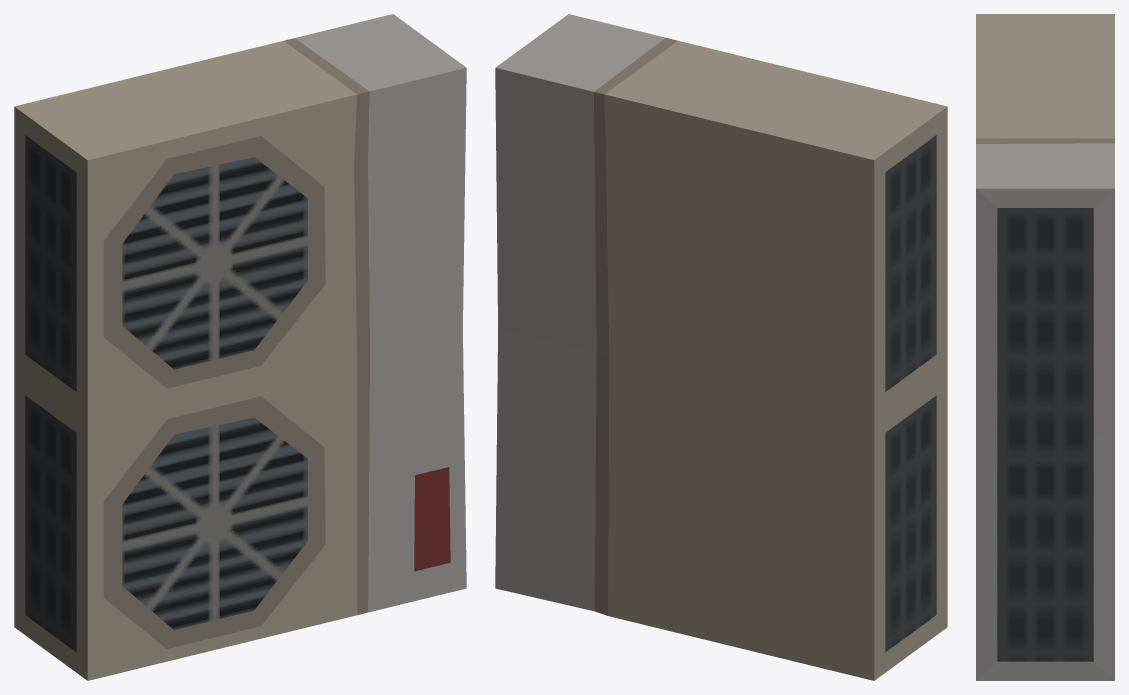
Rendered from SM_Prop_Airconditioner_Optimized_04.glb.
The picture shows the model from 3 angles, left to right: view 1: azimuth 30°, elevation 25°; view 2: azimuth 150°, elevation 25°; view 3: azimuth 270°, elevation 25°; orthographic projection. The views are drawn at different scales.
Parts seen in each view (by area): view 1: SM_Prop_Airconditioner_Optimized_04; view 2: SM_Prop_Airconditioner_Optimized_04; view 3: SM_Prop_Airconditioner_Optimized_04.
Part boxes in pixels (x1,y1,x2,y2): SM_Prop_Airconditioner_Optimized_04: (14, 14, 466, 680); SM_Prop_Airconditioner_Optimized_04: (495, 14, 947, 680); SM_Prop_Airconditioner_Optimized_04: (976, 14, 1114, 680).
Bounding box in the file's own units: 1.07 × 1.41 × 0.3607.
1 material, 1 textured.
